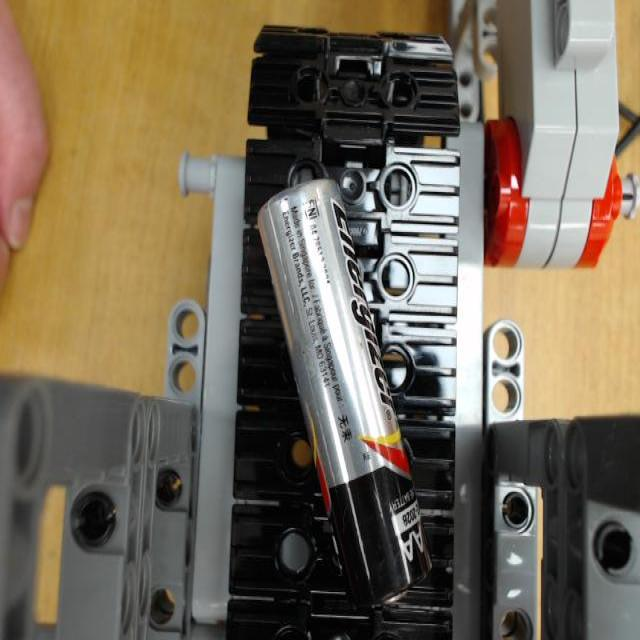AA: (254, 184, 428, 607)
